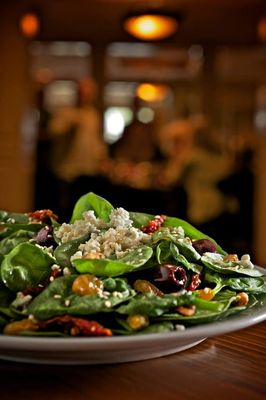sandwich: (1, 195, 266, 339)
